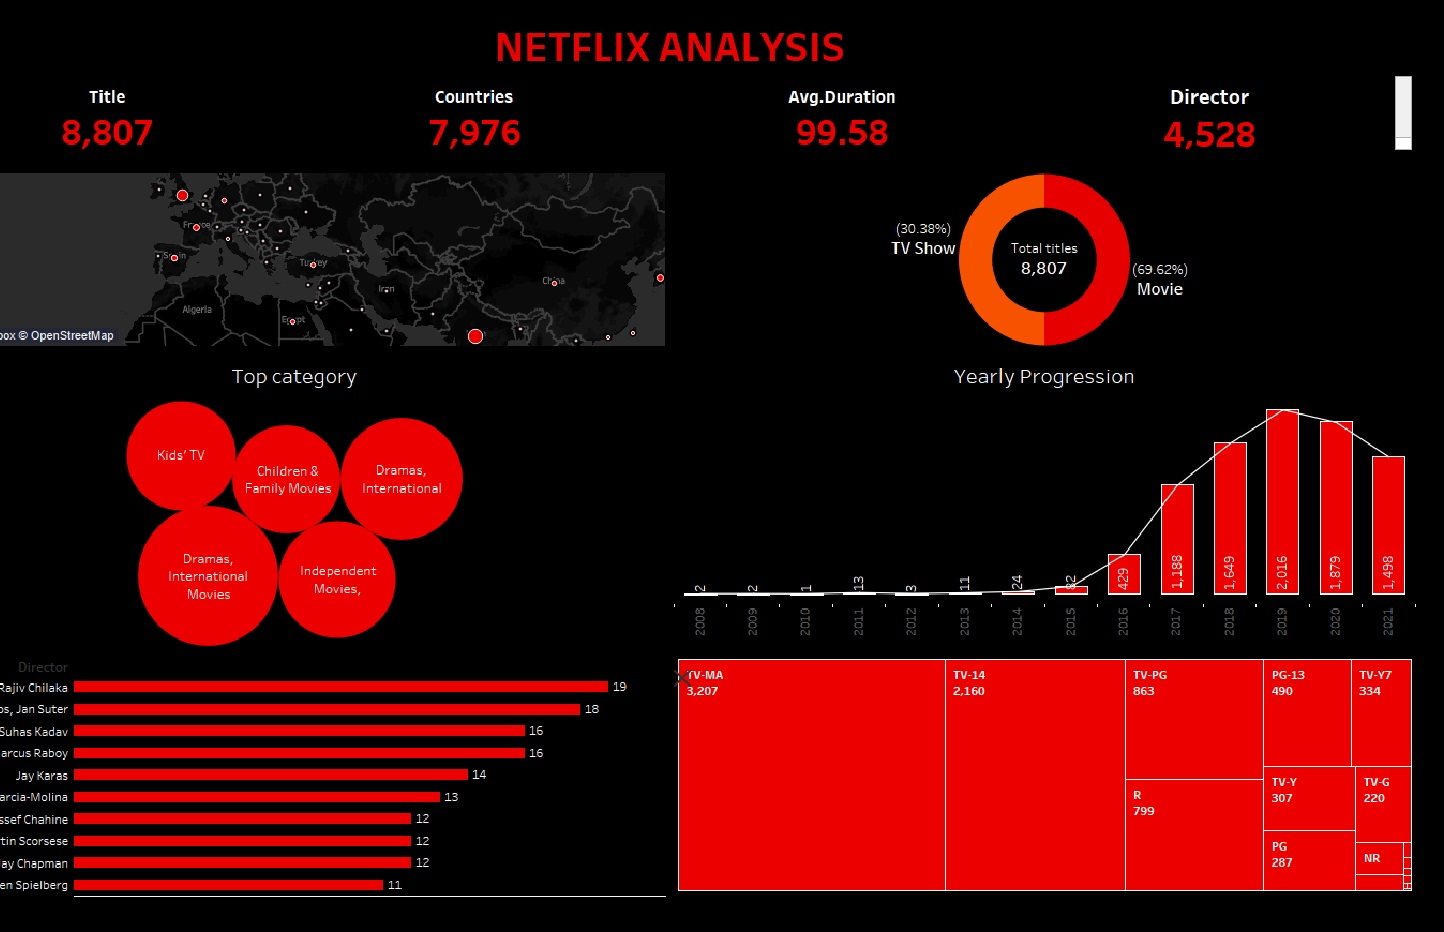

What the dashboard file says about the page in this screenshot:
{"tool":"tableau","page":{"name":"Dashboard 1","canvas":[1400,1400],"ordinal":0},"visuals":[{"type":"worksheet","title":"Donut chart 1","mark":"Pie","rows":["Calculation_324259238790209541","Calculation_324259238790287367"],"box":[645,156,700,204]},{"type":"worksheet","title":"Yearly Progression ","mark":"Bar","rows":["netflix_titles.csv_7A85E2DA498F493DB637725C9603BB57","netflix_titles.csv_7A85E2DA498F493DB637725C9603BB57"],"cols":["date_added"],"box":[645,360,700,274]},{"type":"worksheet","title":"Content By rating","mark":"Square","box":[645,634,700,233]},{"type":"dashboard-object","box":[645,648,24,24]}]}

Visuals, with their boxes on the page's 1400x1400 design canvas (x1, y1, x2, y2). These are canvas units, not pixel positions in the 1444x932 screenshot, which may show the page scaled, cropped or inside an application window:
"Donut chart 1" worksheet (Pie marks): box(645, 156, 1345, 360)
"Yearly Progression " worksheet (Bar marks): box(645, 360, 1345, 634)
"Content By rating" worksheet (Square marks): box(645, 634, 1345, 867)
dashboard-object: box(645, 648, 669, 672)
